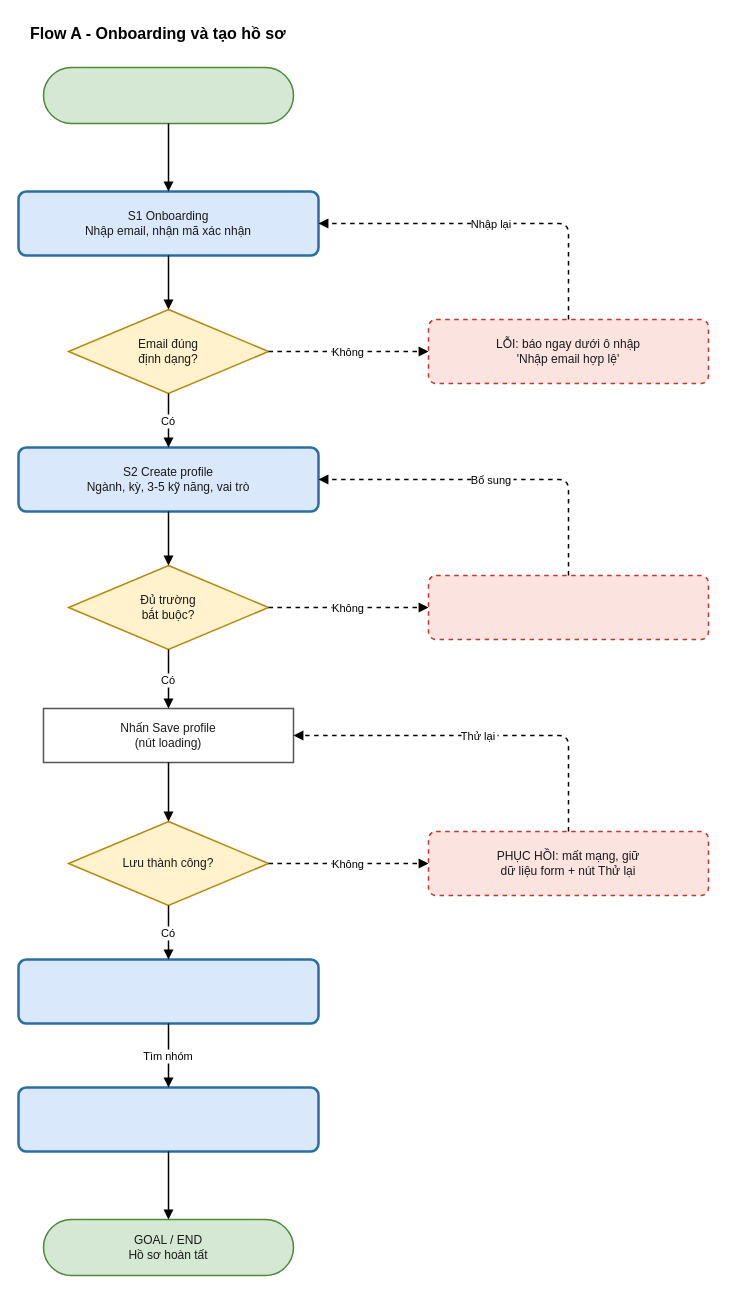
This 746x1293 diagram has some shape labels left out. The centre of each missing label's shape, as x and y in pixels:
"LỖI: tô viền + chữ lỗi ở đúng trường còn thiếu" goes at (568,607).
"S10 Profile Xem hồ sơ vừa tạo" goes at (168,991).
"S3 Discover Màn hình chính" goes at (168,1119).
"START Mở app lần đầu" goes at (168,95).
